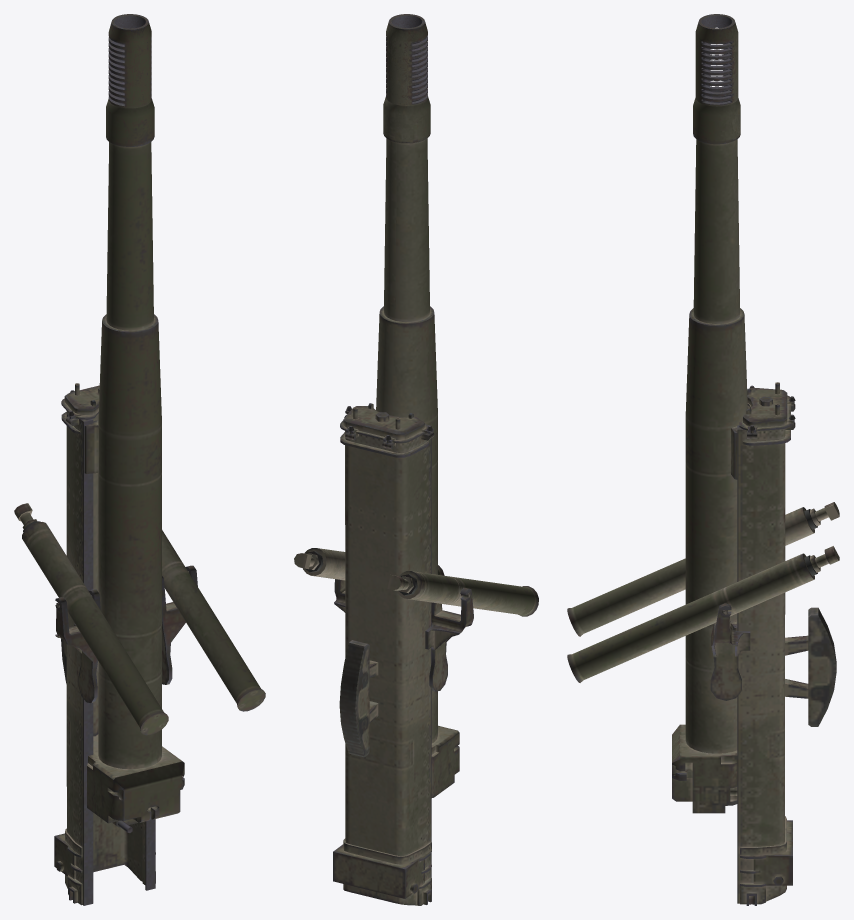
File: Gun_02.glb
3 renders of one model, left to right at view 1: azimuth 30°, elevation 25°; view 2: azimuth 150°, elevation 25°; view 3: azimuth 270°, elevation 25°, orthographic. The views are drawn at different scales.
Parts seen in each view (by area): view 1: set_0_group_0; view 2: set_0_group_0; view 3: set_0_group_0.
Part boxes in pixels (x1=…): set_0_group_0: x1=14, y1=14, x2=265, y2=905; set_0_group_0: x1=294, y1=14, x2=538, y2=905; set_0_group_0: x1=567, y1=14, x2=839, y2=905.
Size of the model in its own units: 0.9026 by 5.56 by 1.59.
Materials: 1 (1 with a texture image).
